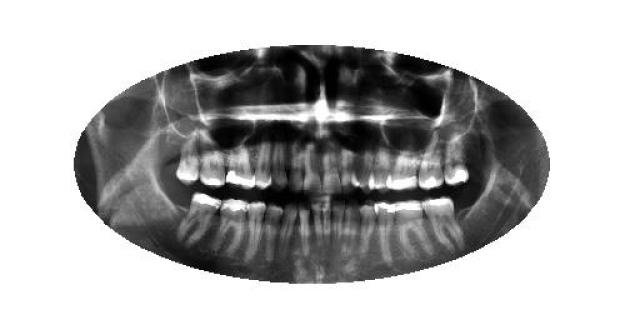Fillings: (393, 200, 432, 264), (179, 192, 221, 248), (214, 198, 250, 252), (417, 129, 445, 190), (225, 140, 256, 190), (388, 144, 420, 190), (444, 127, 468, 185), (375, 200, 395, 266)
